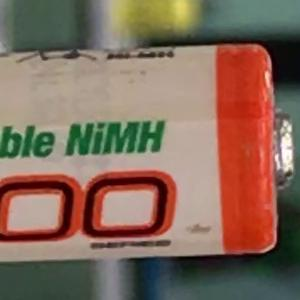NIMH: (55, 111, 175, 166)
